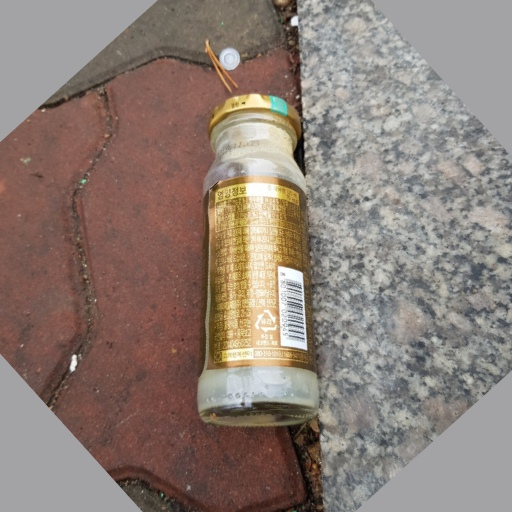Glass_4: (194, 93, 323, 425)
